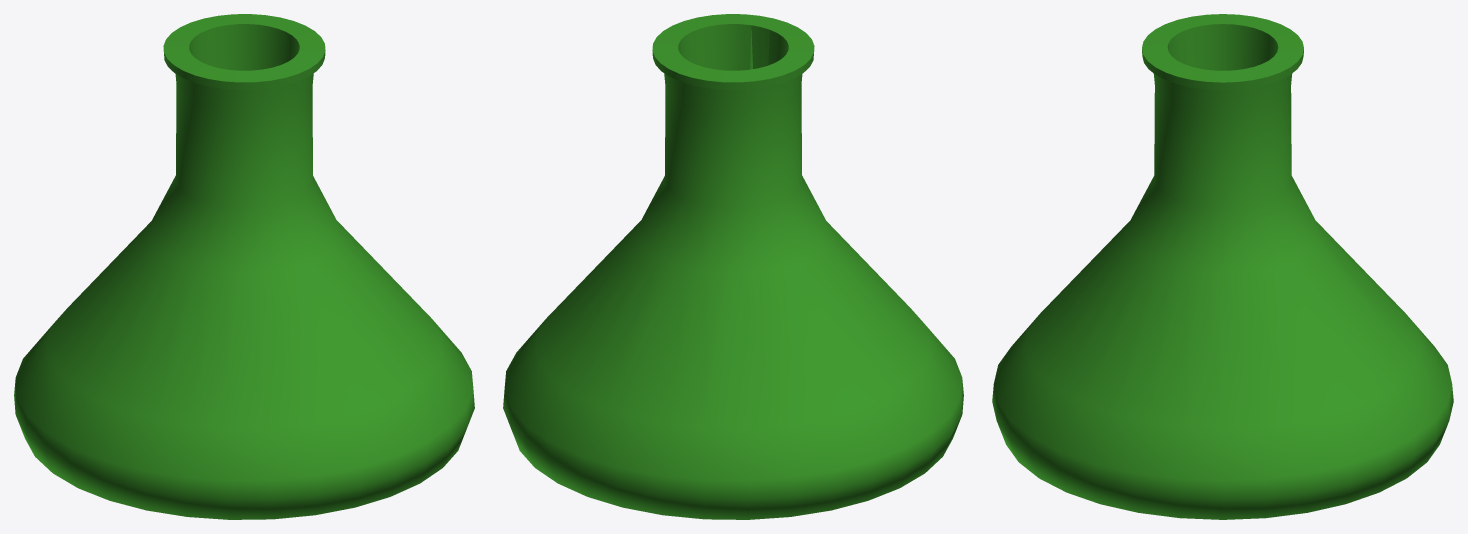
Rendered from Green flask.fbx.
The picture shows the model from 3 angles, left to right: view 1: azimuth 30°, elevation 25°; view 2: azimuth 150°, elevation 25°; view 3: azimuth 270°, elevation 25°; orthographic projection.
Parts seen in each view (by area): view 1: Cylinder.004; view 2: Cylinder.004; view 3: Cylinder.004.
Boxes of the visible parts, x1=… form: Cylinder.004: x1=14, y1=14, x2=474, y2=519; Cylinder.004: x1=503, y1=14, x2=963, y2=519; Cylinder.004: x1=992, y1=14, x2=1453, y2=519.
Size of the model in its own units: 137 by 126 by 137.
